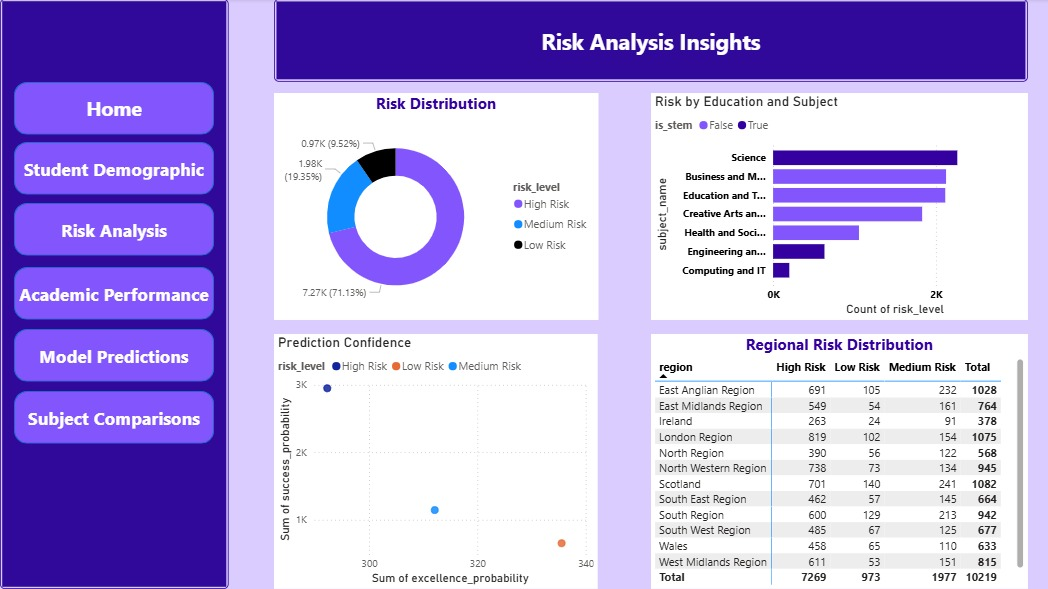

This screenshot's page, from the dashboard's own definition file:
{"tool":"powerbi","page":{"name":"Risk Analysis","canvas":[1280,720],"ordinal":2},"visuals":[{"type":"shape","box":[0,0,279.5,720],"z":0},{"type":"shape","box":[334.3,0,920,101.4],"z":1000},{"type":"donutChart","title":"Risk Distribution","fields":{"Y":["CountNonNull(comprehensive_data.risk_level)"],"Category":["comprehensive_data.risk_level"]},"box":[334.3,114.3,395.7,277.1],"z":2000},{"type":"barChart","title":"Risk by Education and Subject","fields":{"Category":["comprehensive_data.subject_name","comprehensive_data.highest_education"],"Y":["CountNonNull(comprehensive_data.risk_level)"],"Series":["comprehensive_data.is_stem"]},"box":[794.3,114.3,460,277.1],"z":3000},{"type":"scatterChart","title":"Prediction Confidence","fields":{"X":["Sum(comprehensive_data.excellence_probability)"],"Y":["Sum(comprehensive_data.success_probability)"],"Series":["comprehensive_data.risk_level"]},"box":[334.4,408.8,395.4,311.2],"z":4000},{"type":"shape","box":[17.1,101.4,244.3,64.3],"z":5000},{"type":"shape","box":[17.1,174.3,244.3,64.3],"z":6000},{"type":"shape","box":[17.1,478.6,244.3,64.3],"z":7000},{"type":"shape","box":[17.1,402.9,244.3,64.3],"z":8000},{"type":"shape","box":[17.1,327.1,244.3,64.3],"z":9000},{"type":"shape","box":[17.1,248.6,244.3,64.3],"z":10000},{"type":"pivotTable","title":"Regional Risk Distribution","fields":{"Rows":["comprehensive_data.region"],"Columns":["comprehensive_data.risk_level"],"Values":["CountNonNull(comprehensive_data.Student Count by Risk)"]},"box":[794.3,408.6,460,311.4],"z":11000}]}

Visuals, with their boxes in screenshot pixels (x1, y1, x2, y2), scaled from the page's 1280x720 canvas onto the 1048x589 screenshot:
shape: box(0, 0, 229, 588)
shape: box(274, 0, 1027, 83)
"Risk Distribution" donutChart: box(274, 94, 598, 320)
"Risk by Education and Subject" barChart: box(650, 94, 1027, 320)
"Prediction Confidence" scatterChart: box(274, 334, 598, 588)
shape: box(14, 83, 214, 136)
shape: box(14, 143, 214, 195)
shape: box(14, 392, 214, 444)
shape: box(14, 330, 214, 382)
shape: box(14, 268, 214, 320)
shape: box(14, 203, 214, 256)
"Regional Risk Distribution" pivotTable: box(650, 334, 1027, 588)
